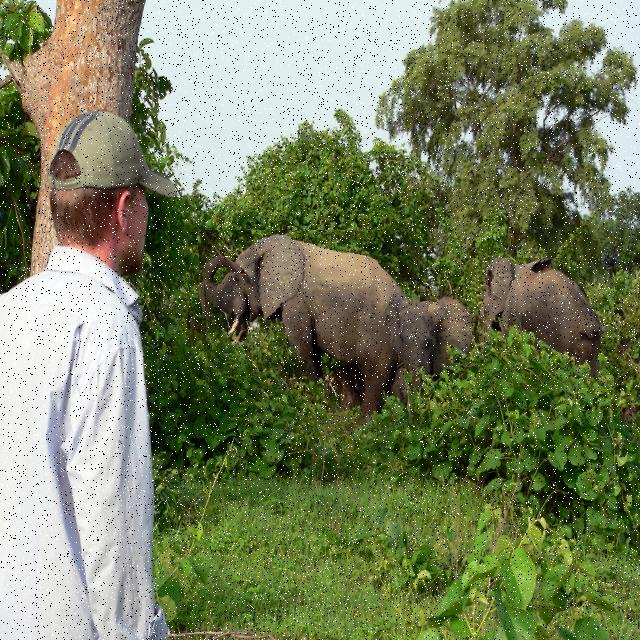elephant: (200, 230, 420, 433), (462, 258, 614, 391), (373, 291, 484, 409)
